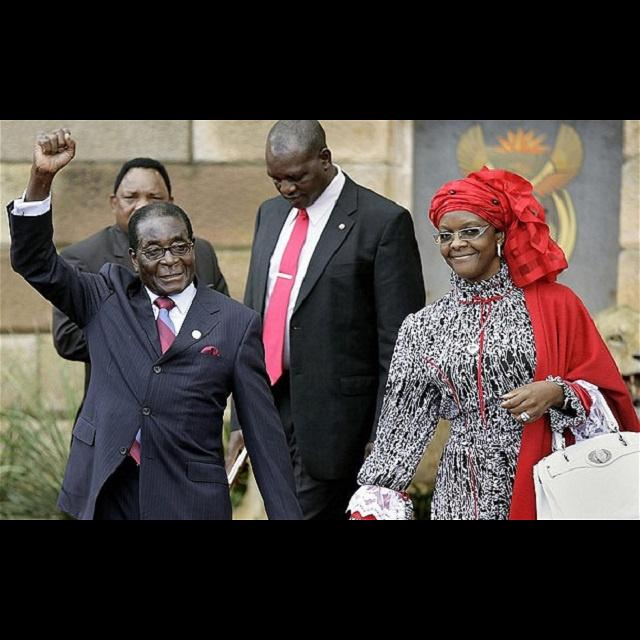head: (434, 178, 514, 282), (126, 202, 202, 298), (266, 120, 334, 212), (109, 159, 177, 239)
